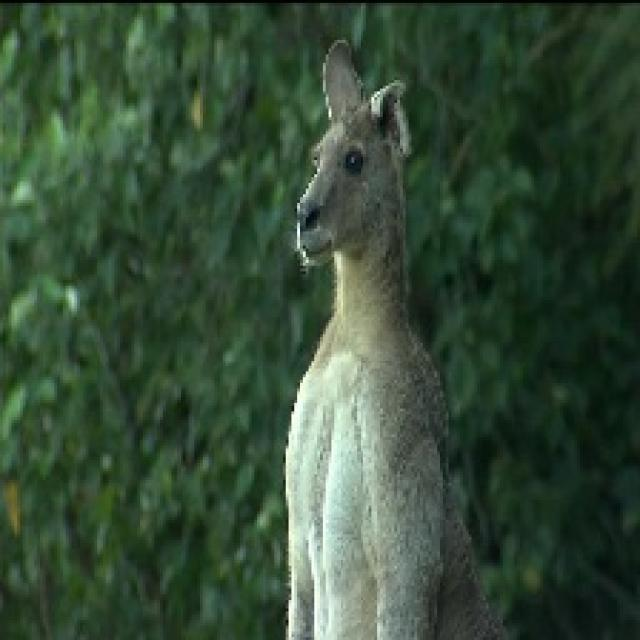animal: (214, 57, 572, 640)
